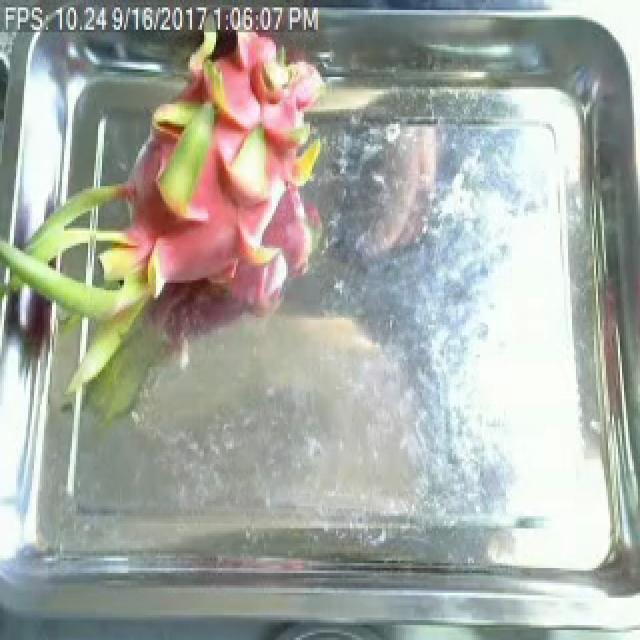fruit: (0, 5, 362, 399)
